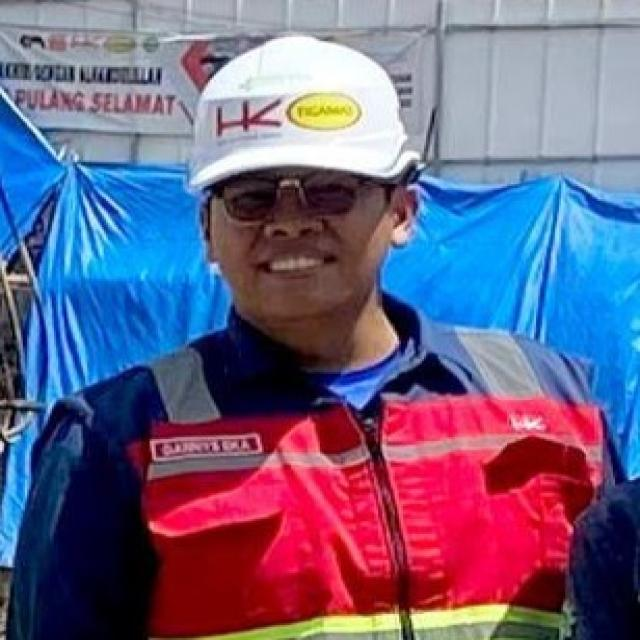safetyhelmet: (187, 31, 429, 246)
